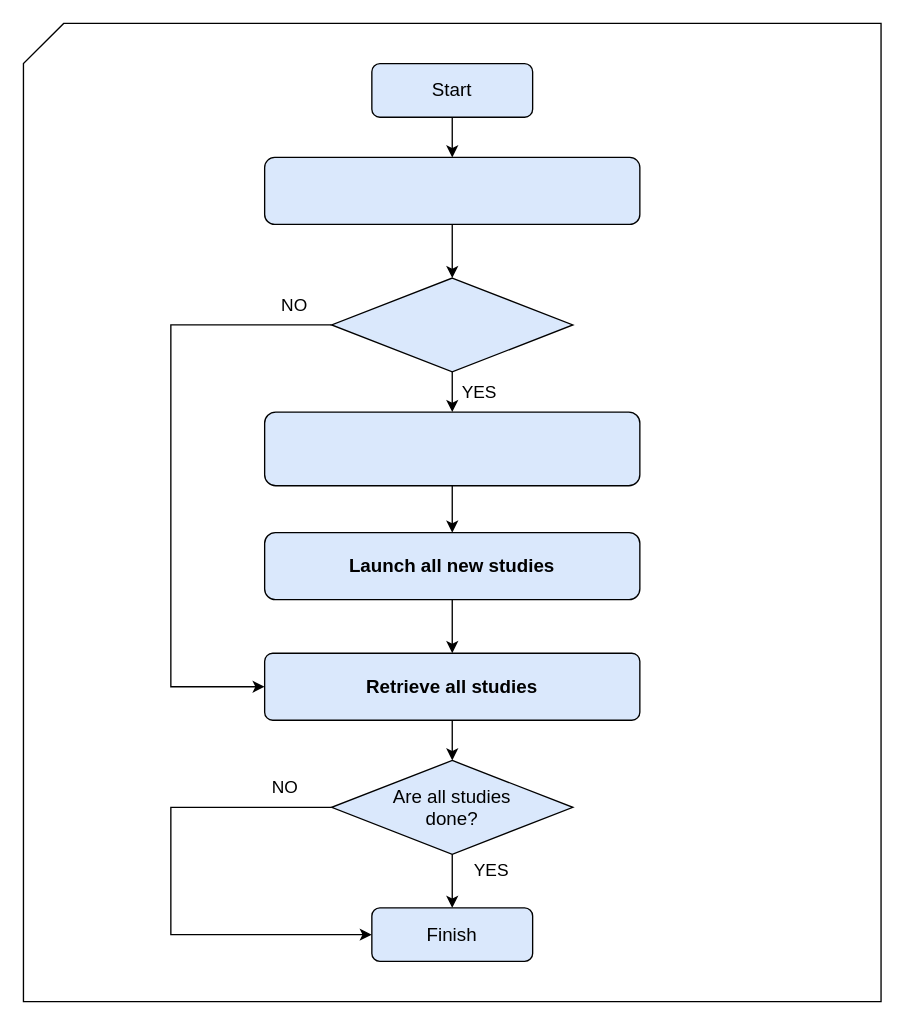
Image size: 905x1025. Some labels were removed from this diagram. The shapes that lost their labels are listed below. From the top down, each one's box as (x1, y1, x2, y2) in pixels, then its label:
(263, 156, 640, 224): Look for new simulations in STUDIES_IN
(330, 277, 573, 372): New simulations?
(263, 411, 640, 486): add new Antares-studies to JSON DataBase
